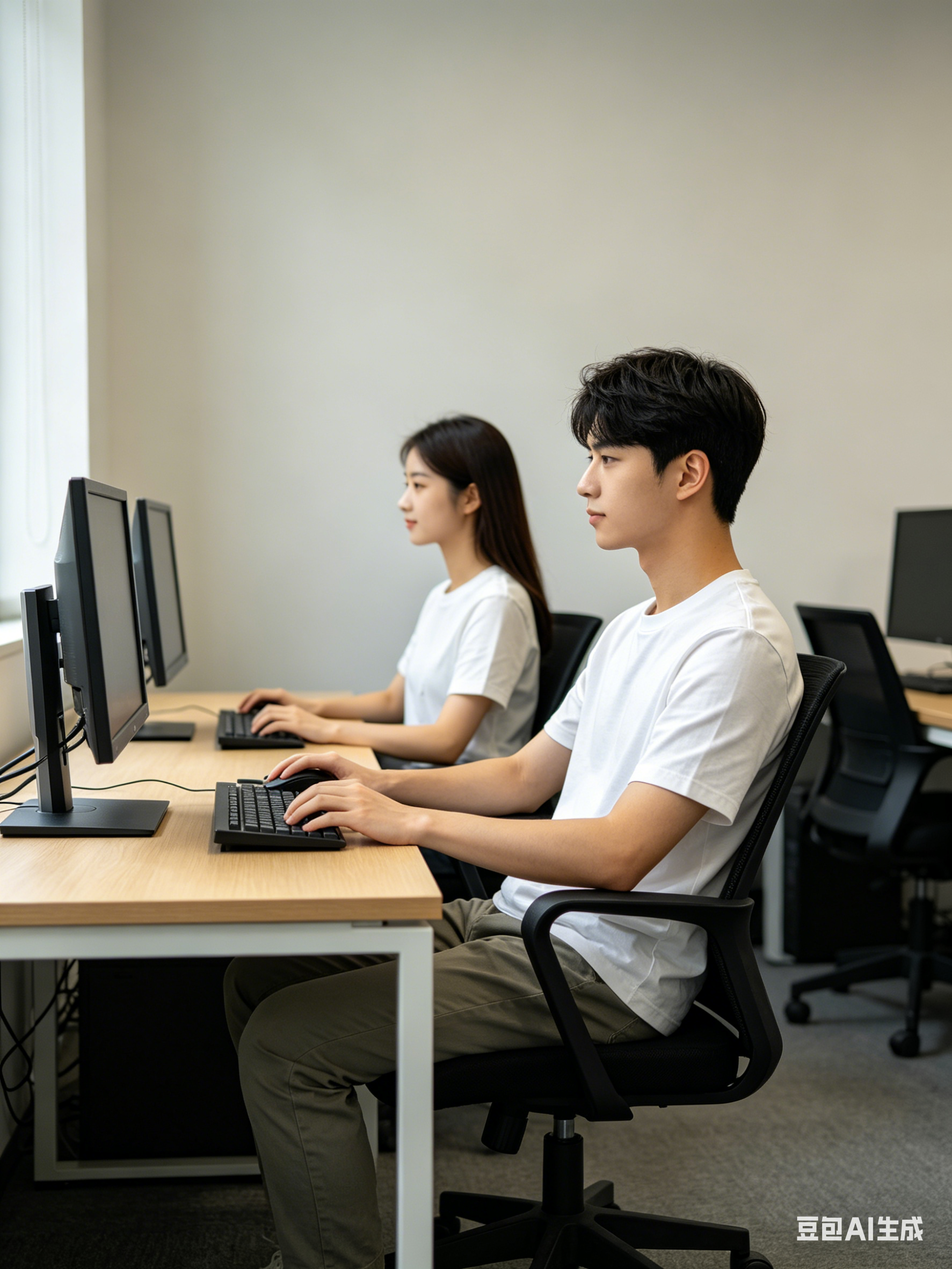sitting_good: (443, 346, 833, 1105), (274, 418, 549, 758)
